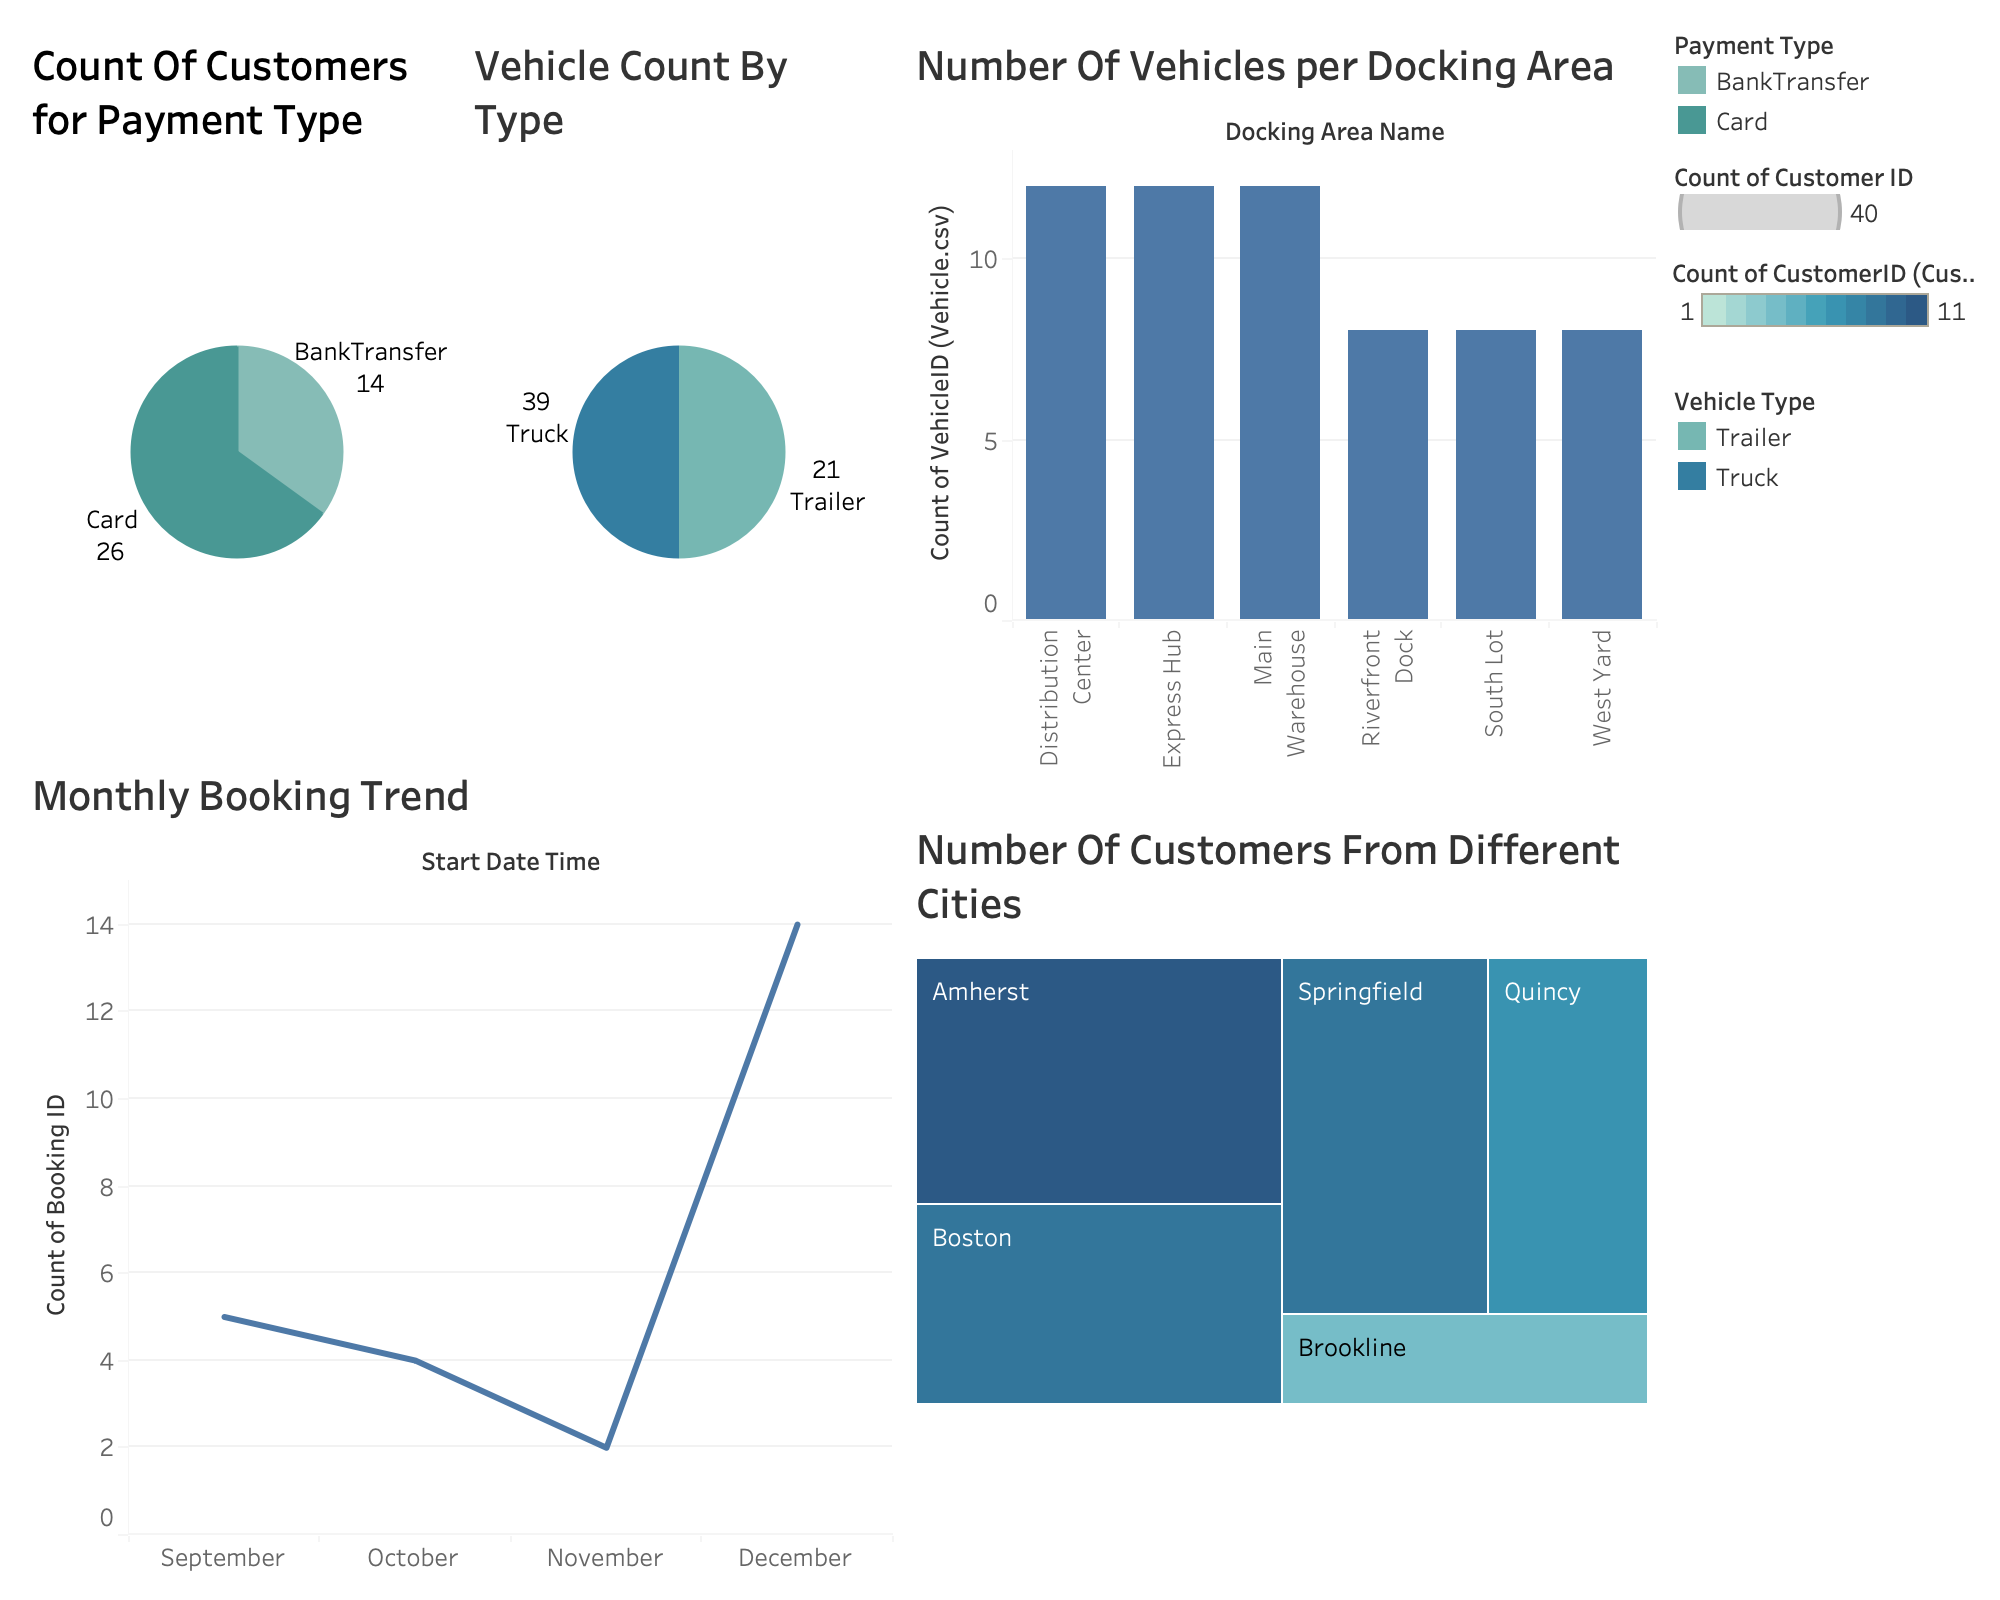

The dashboard page shown, as its layout file describes it:
{"tool":"tableau","page":{"name":"Moving and Storage Rental Service Analysis","canvas":[1000,800],"ordinal":0},"visuals":[{"type":"text","box":[8,8,984,73]},{"type":"worksheet","title":"Pie chart of Payment Type","mark":"Pie","box":[8,81,349.4,331]},{"type":"worksheet","title":"Number of Vehicles per Docking Area","mark":"Bar","rows":["VehicleID (Vehicle.csv)"],"cols":["DockingAreaName"],"box":[357.4,81,355.6,436.2]},{"type":"legend","title":"Pie chart of Payment Type","param":"[federated.09rmo0v0bbk32q1avnbdn05r0pvp].[none:PaymentType:nk]","box":[713,81,279,66]},{"type":"legend","title":"Pie chart of Payment Type","param":"[federated.09rmo0v0bbk32q1avnbdn05r0pvp].[cnt:CustomerID:qk]","box":[713,147,279,46]},{"type":"legend","title":"Number of Customers from Different Cities","param":"[federated.09rmo0v0bbk32q1avnbdn05r0pvp].[cnt:CustomerID (Customer.csv):qk]","box":[713,193,279,65]},{"type":"legend","title":"Count of booked vehicles based on type","param":"[federated.09rmo0v0bbk32q1avnbdn05r0pvp].[none:VehicleType:nk]","box":[713,258,279,66]},{"type":"worksheet","title":"Count of booked vehicles based on type","mark":"Pie","box":[713,324,279,468]},{"type":"worksheet","title":"Monthly Booking Trend","mark":"Line","rows":["BookingID"],"cols":["StartDateTime"],"box":[8,412,349.4,380]},{"type":"worksheet","title":"Number of Customers from Different Cities","mark":"Automatic","box":[357.4,517.2,355.6,274.8]}]}

Visuals, with their boxes in screenshot pixels (x1, y1, x2, y2), scaled from the page's 1000x800 canvas onto the 2000x1600 screenshot:
text: <region>16, 16, 1984, 162</region>
"Pie chart of Payment Type" worksheet (Pie marks): <region>16, 162, 715, 824</region>
"Number of Vehicles per Docking Area" worksheet (Bar marks): <region>715, 162, 1426, 1034</region>
"Pie chart of Payment Type" legend: <region>1426, 162, 1984, 294</region>
"Pie chart of Payment Type" legend: <region>1426, 294, 1984, 386</region>
"Number of Customers from Different Cities" legend: <region>1426, 386, 1984, 516</region>
"Count of booked vehicles based on type" legend: <region>1426, 516, 1984, 648</region>
"Count of booked vehicles based on type" worksheet (Pie marks): <region>1426, 648, 1984, 1584</region>
"Monthly Booking Trend" worksheet (Line marks): <region>16, 824, 715, 1584</region>
"Number of Customers from Different Cities" worksheet: <region>715, 1034, 1426, 1584</region>
